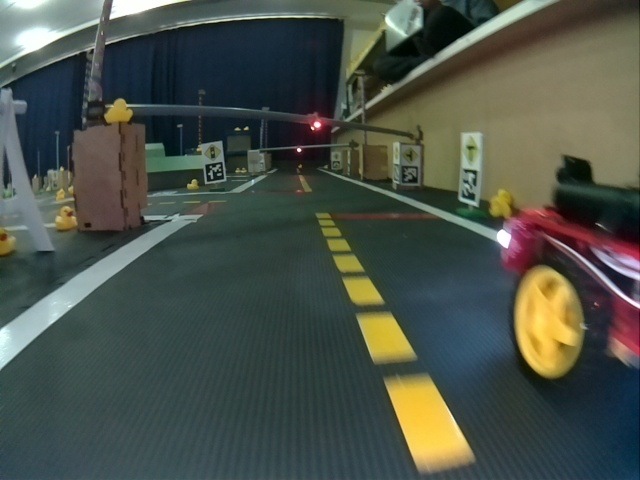Duckie: (106, 102, 131, 124), (56, 207, 76, 229), (188, 180, 197, 188)
Duckiebot: (501, 155, 638, 388)
Intersection sign: (463, 135, 479, 164), (405, 148, 418, 164)
QR code: (460, 171, 478, 205), (205, 165, 224, 182), (402, 167, 419, 183)
Signal sign: (206, 143, 220, 160)
Traffic light: (309, 116, 320, 131), (296, 147, 304, 154)
